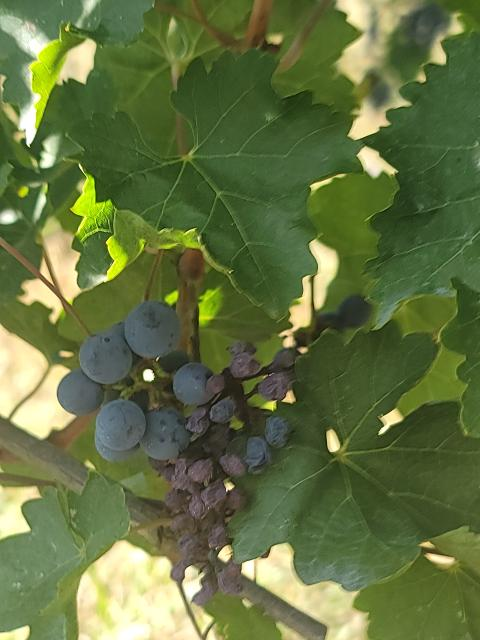grapes: (59, 300, 262, 601)
